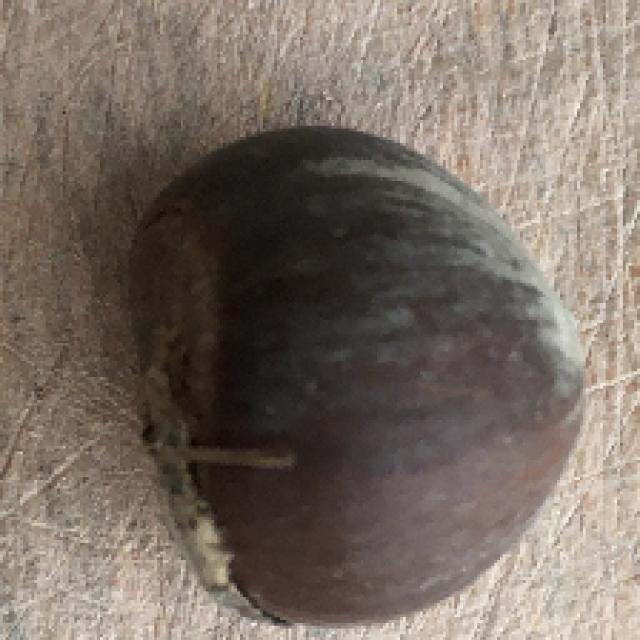damagedHazelnut: (128, 132, 592, 622)
